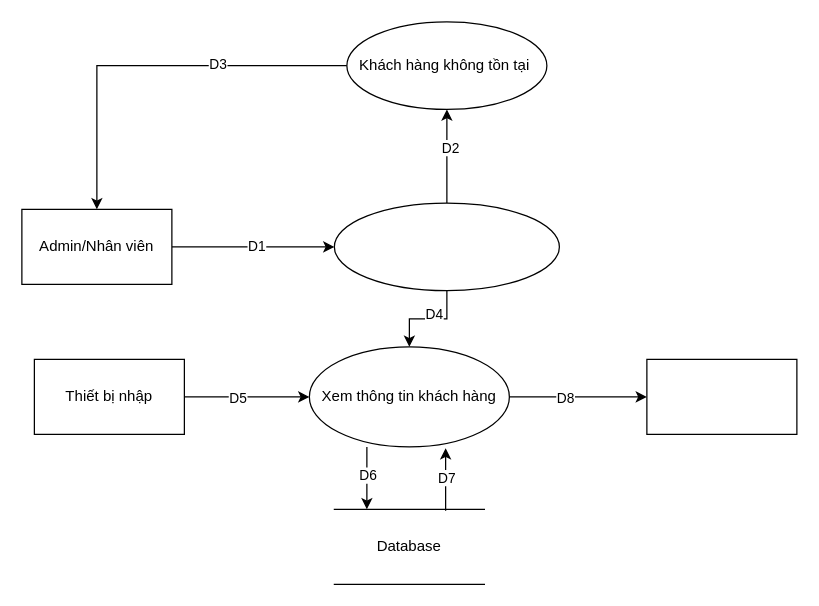
The diagram is 819 pixels wide and 606 high, and some of its shapes have lost their labels. Here are the shapes that lost their labels. From the top down, the box of each, then its label:
(333, 202, 559, 291): Kiểm tra thông tin KH trong Database
(646, 358, 797, 434): Thiết bị xuất
